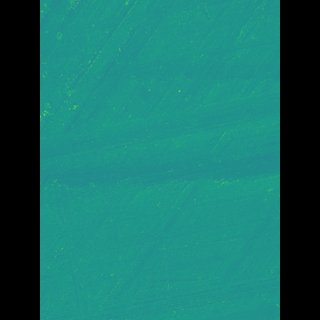Loch: (70, 91, 250, 208), (68, 45, 108, 319), (91, 33, 250, 92)
